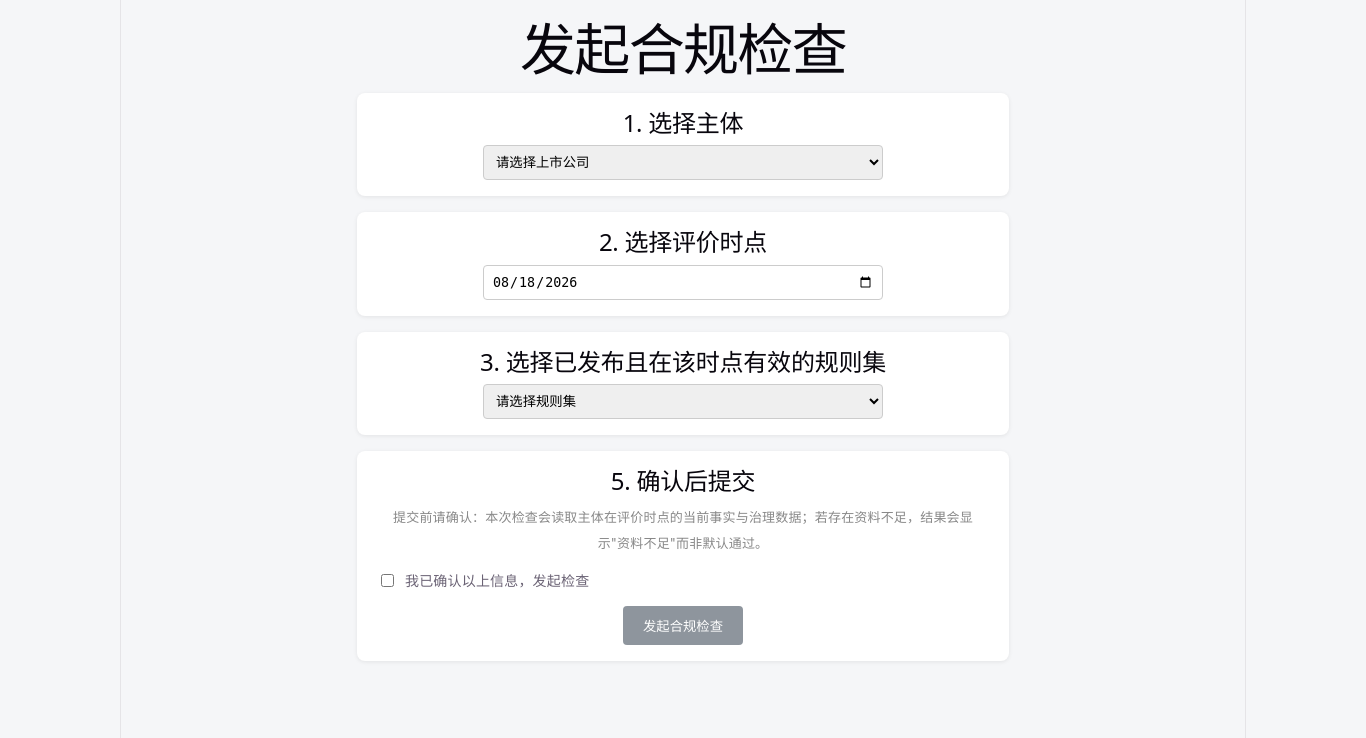
Test: ComplianceCheckWizardView › keeps the submit button disabled until subject, ruleset and confirmation are all set
The width and height of the screenshot is (1366, 738).
Expected: the button "发起合规检查" is disabled, x1=623 y1=606 x2=743 y2=645
Select "演示上市公司" in the dropdown below "1. 选择主体" at point(683, 163), box x1=483 y1=145 x2=883 y2=180
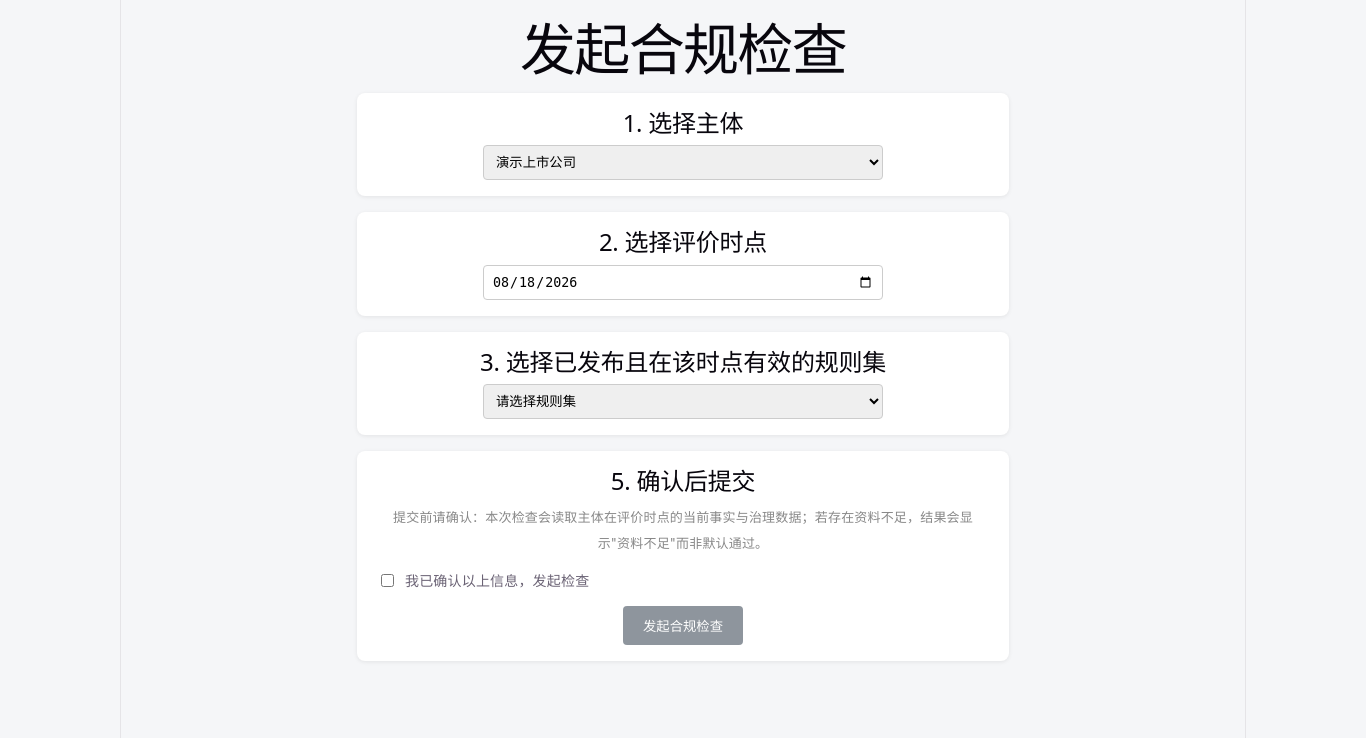
Select "上市公司治理规则集（v1）" in the dropdown below "3. 选择已发布且在该时点有效的规则集" at point(683, 402), box x1=483 y1=384 x2=883 y2=419
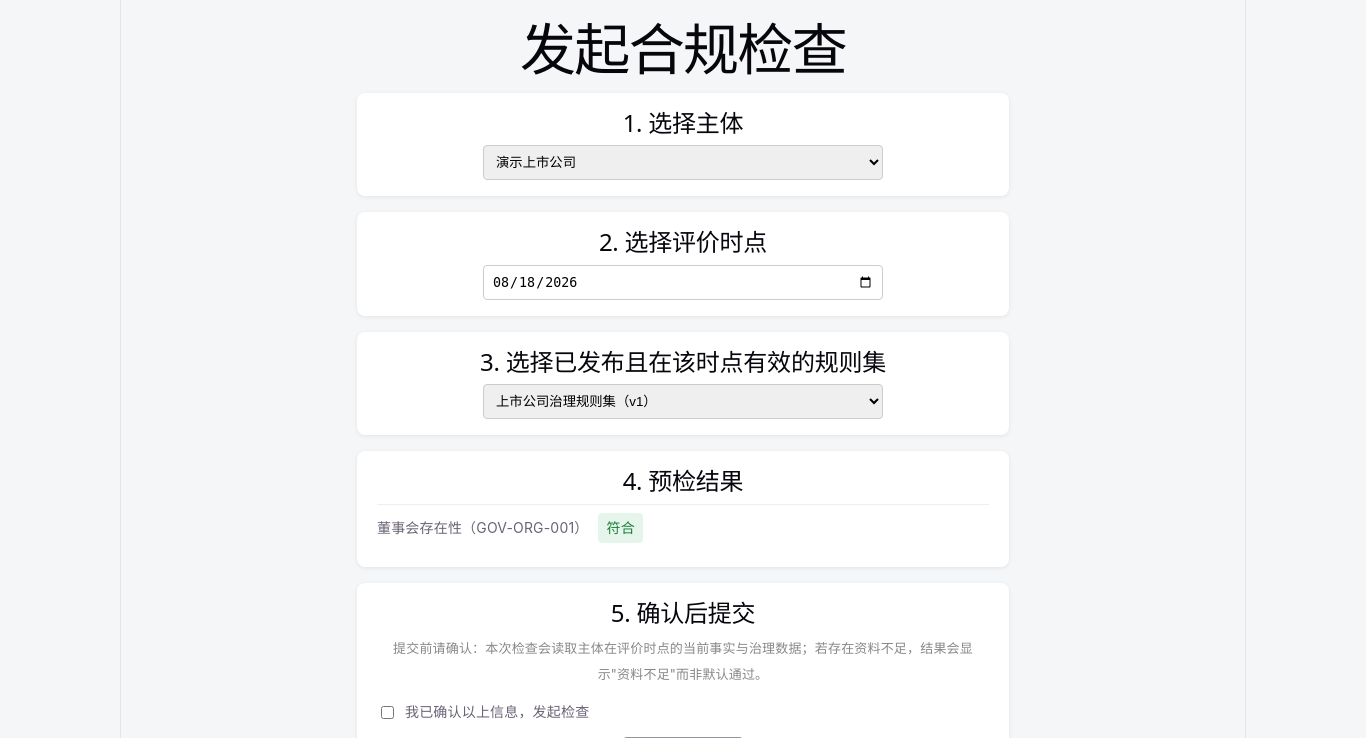
Click the checkbox labelled "我已确认以上信息，发起检查" at point(388, 712), box x1=381 y1=706 x2=394 y2=719
(page scrolled)
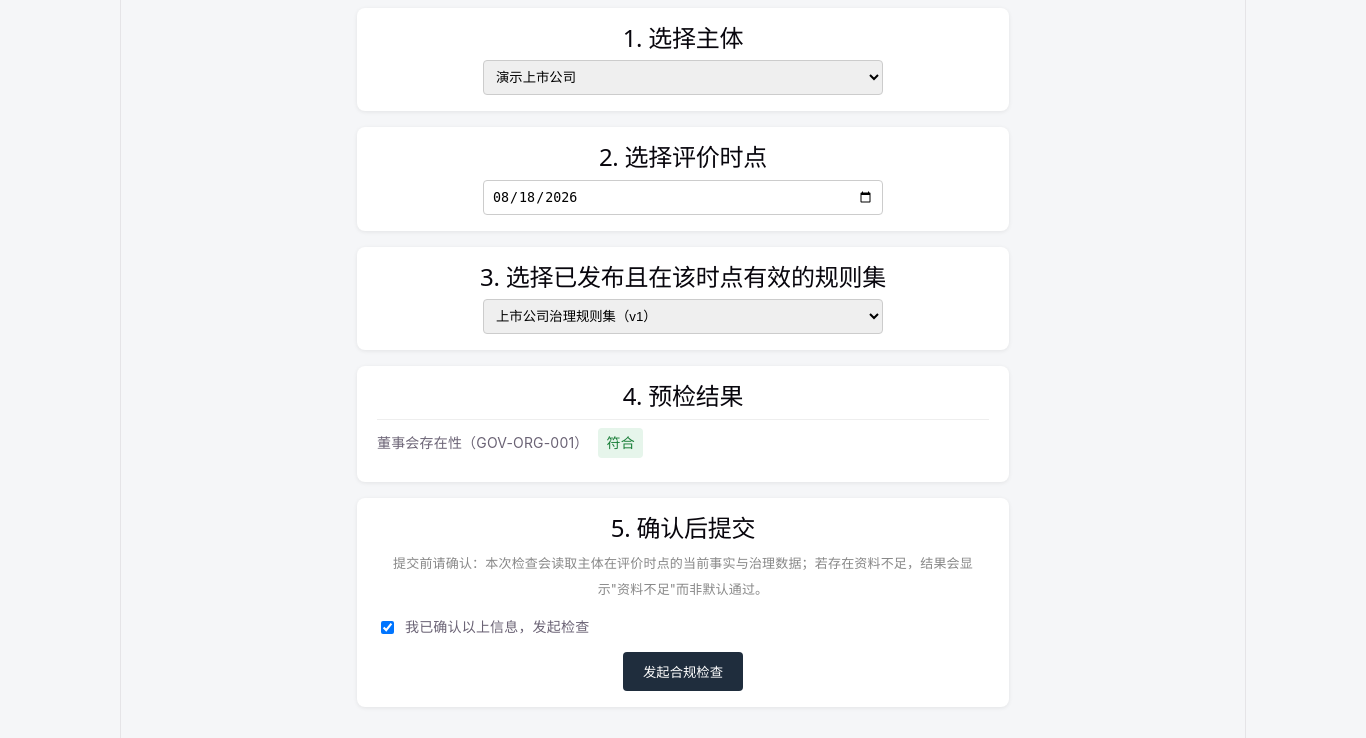
Expected: the button "发起合规检查" is enabled, x1=623 y1=652 x2=743 y2=691
